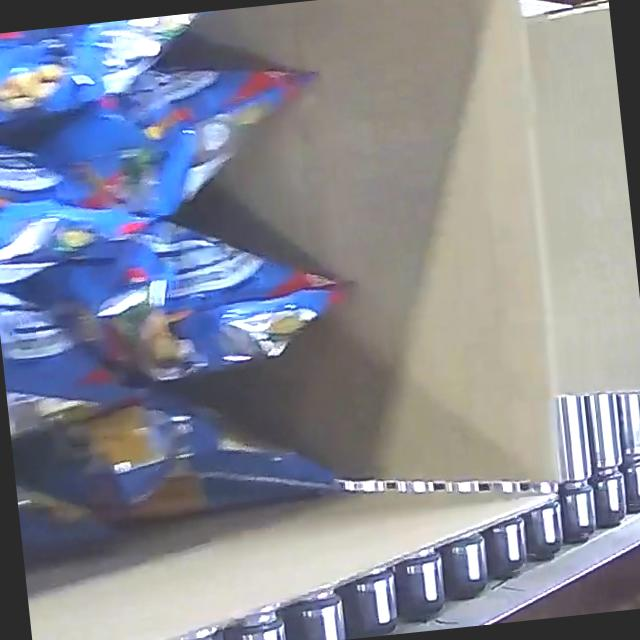paprika: (0, 0, 381, 599)
